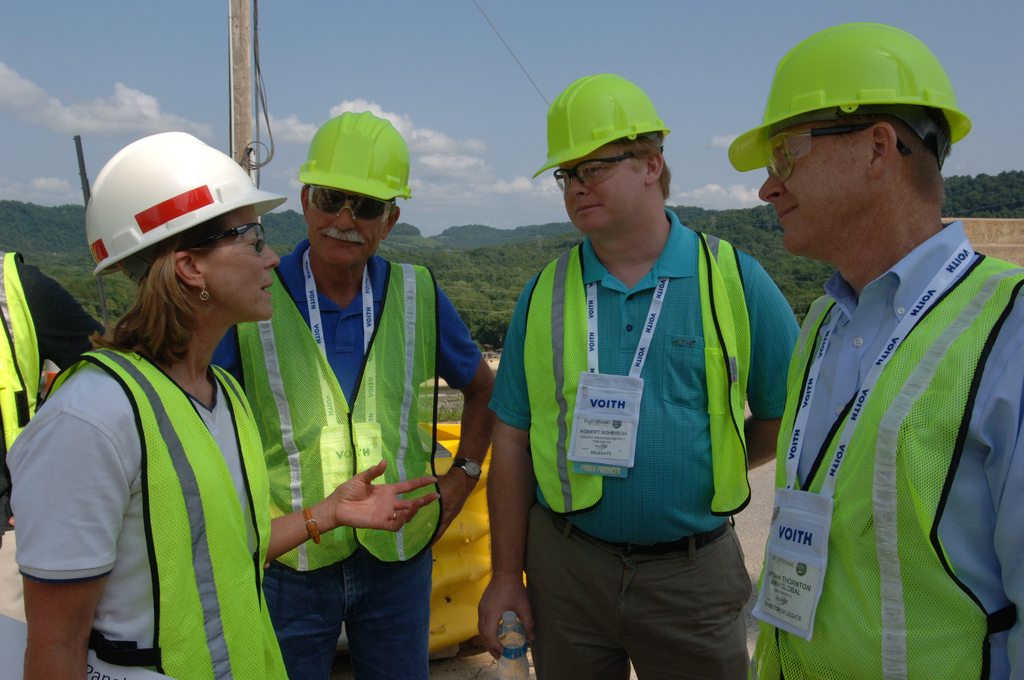Tree: (380, 239, 558, 356), (672, 204, 840, 309), (22, 252, 138, 338), (933, 165, 1023, 213)
